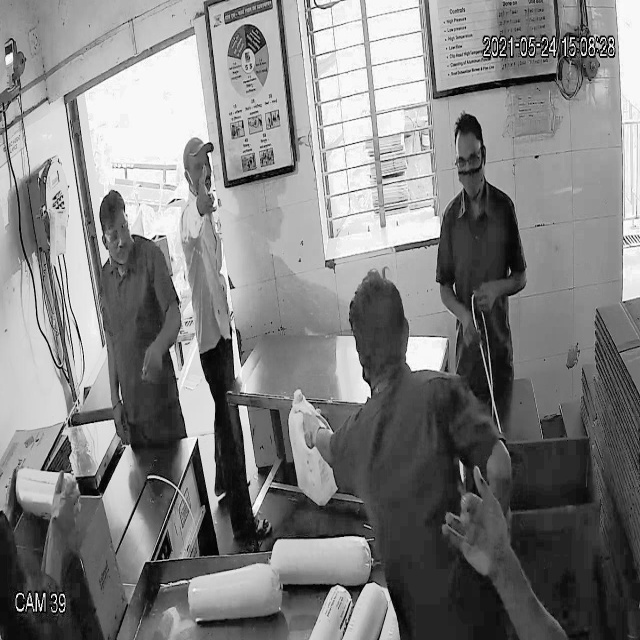Gafas: (448, 142, 488, 180), (98, 215, 134, 250)
